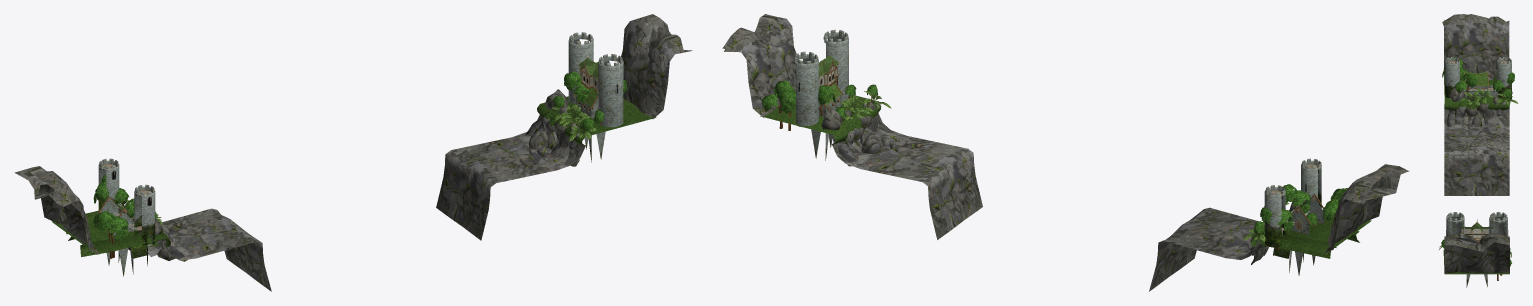
The model's file is runner-game-models--bg.glb.
3 renders of one model, left to right at view 1: azimuth 30°, elevation 25°; view 2: azimuth 150°, elevation 25°; view 3: azimuth 270°, elevation 25°, orthographic. The views are drawn at different scales.
Visible parts, largest first — view 1: BG_Segments_6_Cliffs, BG_Segments_5_Cliffs, BG_Segment_4_Cliffs, fortress_towerBridgew, BG_Segment_2_Cliffs, BG_Segment_3_Cliffs, BG_Segment_01, BG_Segments_1_Towers, BG_Segments_1_Grass, BG_Segments_5_Vegetation, BG_Segments_6_Grass, fortress_entrance001e (+6 smaller); view 2: BG_Segments_5_Cliffs, BG_Segment_4_Cliffs, BG_Segment_2_Cliffs, fortress_towerBridgew, BG_Segments_6_Cliffs, BG_Segment_3_Cliffs, BG_Segment_01, BG_Segments_1_Towers, BG_Segments_3_Vegetation, BG_Segments_1_Grass, fortress_entrance001e, BG_Segments_4_Vegetation (+7 smaller); view 3: BG_Segment_3_Cliffs, BG_Segment_2_Cliffs, BG_Segment_01, BG_Segment_4_Cliffs, fortress_towerBridgew, BG_Segments_1_Towers, BG_Segments_3_Vegetation, BG_Segments_5_Cliffs, BG_Segments_6_Cliffs, BG_Segment_3_Grass, BG_Segment_2_Grass, fortress_entrance001e (+5 smaller).
Boxes of the visible parts, x1,y1,x2,y2 form: BG_Segments_6_Cliffs: [442, 31, 671, 234]; BG_Segments_5_Cliffs: [436, 48, 692, 240]; BG_Segment_4_Cliffs: [436, 14, 683, 208]; fortress_towerBridgew: [568, 32, 623, 127]; BG_Segment_2_Cliffs: [14, 169, 265, 273]; BG_Segment_3_Cliffs: [27, 166, 261, 261]; BG_Segment_01: [20, 169, 271, 291]; BG_Segments_1_Towers: [98, 158, 155, 246]; BG_Segments_1_Grass: [52, 205, 170, 256]; BG_Segments_5_Vegetation: [562, 71, 626, 126]; BG_Segments_6_Grass: [537, 96, 655, 145]; fortress_entrance001e: [97, 196, 134, 276]; BG_Segments_5_Cliffs: [722, 35, 982, 239]; BG_Segment_4_Cliffs: [724, 14, 970, 218]; BG_Segment_2_Cliffs: [1158, 168, 1409, 277]; fortress_towerBridgew: [793, 29, 848, 127]; BG_Segments_6_Cliffs: [768, 39, 978, 234]; BG_Segment_3_Cliffs: [1159, 164, 1406, 264]; BG_Segment_01: [1149, 167, 1403, 291]; BG_Segments_1_Towers: [1264, 158, 1321, 247]; BG_Segments_3_Vegetation: [1243, 184, 1322, 250]; BG_Segments_1_Grass: [1250, 216, 1371, 258]; fortress_entrance001e: [1288, 194, 1324, 275]; BG_Segments_4_Vegetation: [762, 85, 891, 128]; BG_Segment_3_Cliffs: [1442, 14, 1509, 195]; BG_Segment_2_Cliffs: [1444, 20, 1509, 155]; BG_Segment_01: [1444, 14, 1509, 151]; BG_Segment_4_Cliffs: [1444, 233, 1509, 273]; fortress_towerBridgew: [1446, 211, 1508, 241]; BG_Segments_1_Towers: [1444, 57, 1512, 99]; BG_Segments_3_Vegetation: [1455, 72, 1518, 105]; BG_Segments_5_Cliffs: [1444, 237, 1509, 272]; BG_Segments_6_Cliffs: [1467, 237, 1509, 273]; BG_Segment_3_Grass: [1444, 80, 1509, 110]; BG_Segment_2_Grass: [1444, 79, 1510, 110]; fortress_entrance001e: [1463, 71, 1490, 89].
Bounding box in the file's own units: 132 × 29.26 × 19.55.
Materials: 23 (23 with a texture image).
